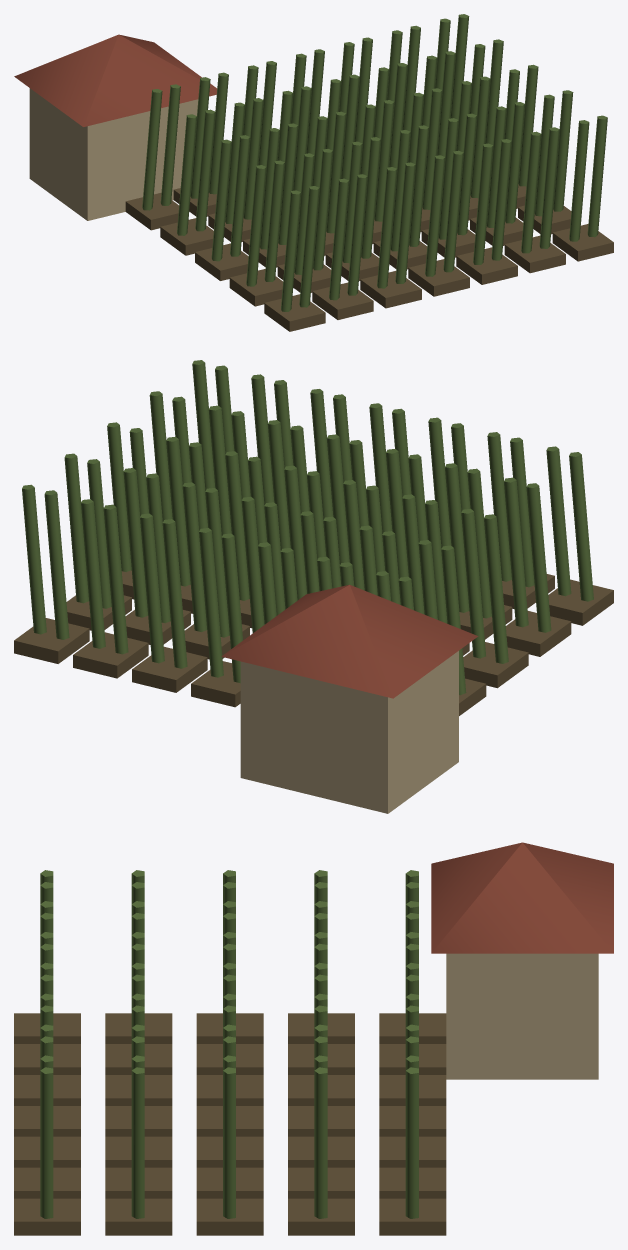
Rendered from custom-imp-sugarfarm.glb.
3 views of the same model, one above another, from view 1: azimuth 30°, elevation 25°; view 2: azimuth 150°, elevation 25°; view 3: azimuth 270°, elevation 25° (orthographic). The views are drawn at different scales.
Visible parts, largest first — view 1: custom-imp-sugarfarm; view 2: custom-imp-sugarfarm; view 3: custom-imp-sugarfarm.
Part boxes in pixels (x1,y1,x2,y2): custom-imp-sugarfarm: [14, 14, 613, 331]; custom-imp-sugarfarm: [14, 360, 613, 813]; custom-imp-sugarfarm: [14, 842, 613, 1235].
Size of the model in its own units: 0.9588 by 0.3655 by 1.
